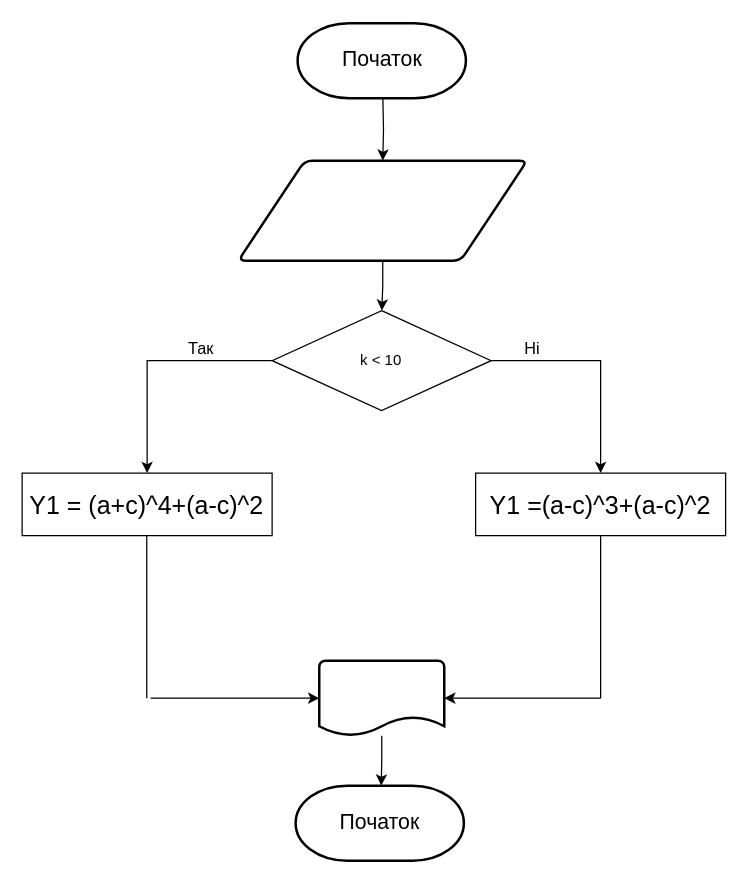
The diagram is 748 pixels wide and 883 high, and some of its shapes have lost their labels. Here are the shapes that lost their labels. From the top down, the box of each, then its label:
(236, 159, 528, 261): a, c
(317, 659, 445, 736): Y1
